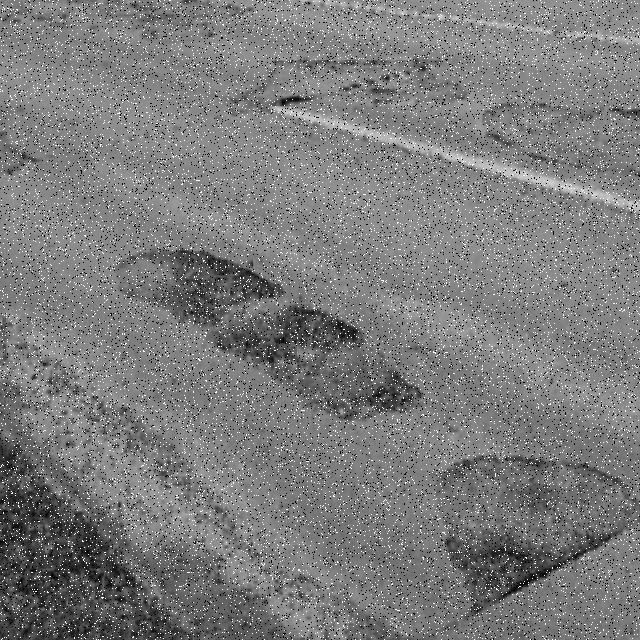pothole: (434, 455, 640, 619), (214, 306, 420, 418), (114, 247, 282, 329), (246, 59, 468, 112), (482, 103, 640, 173), (4, 0, 253, 39), (0, 131, 40, 175)
